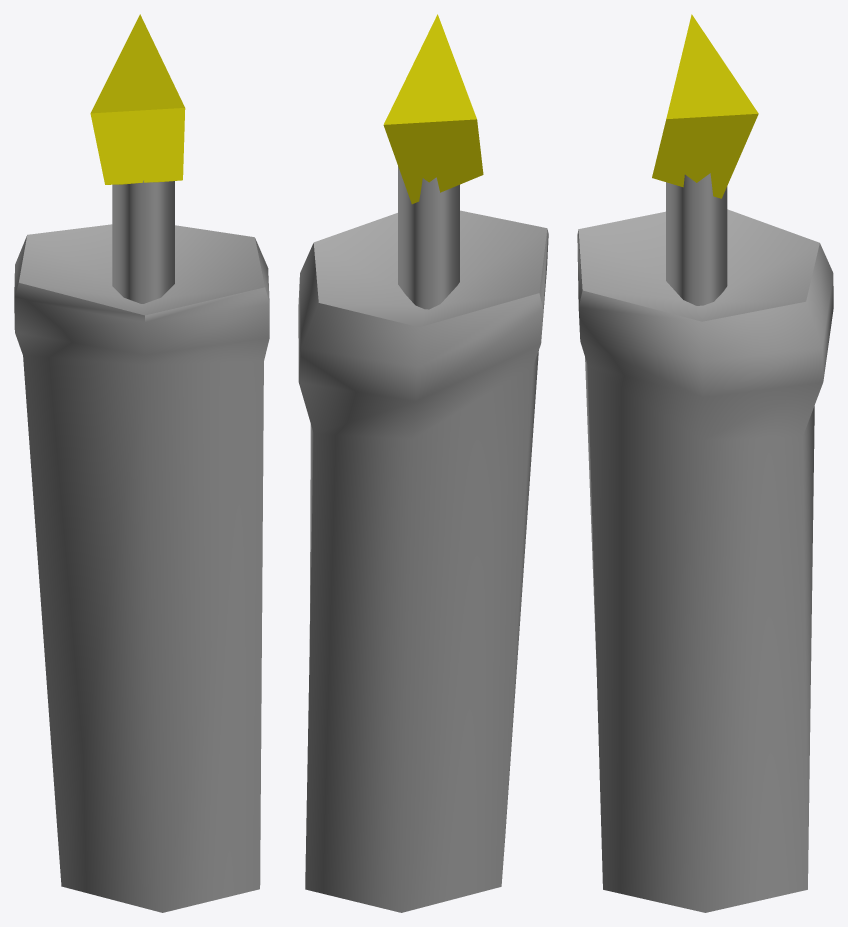
The model's file is Candle.fbx.
3 views of the same model, side by side, from view 1: azimuth 30°, elevation 25°; view 2: azimuth 150°, elevation 25°; view 3: azimuth 270°, elevation 25° (orthographic). The views are drawn at different scales.
Parts seen in each view (by area): view 1: pCylinder15; view 2: pCylinder15; view 3: pCylinder15.
Boxes of the visible parts, bbox=[...] form: pCylinder15: bbox=[14, 14, 269, 912]; pCylinder15: bbox=[298, 14, 548, 912]; pCylinder15: bbox=[577, 14, 833, 912].
Size of the model in its own units: 0.8331 by 2.72 by 0.7526.
